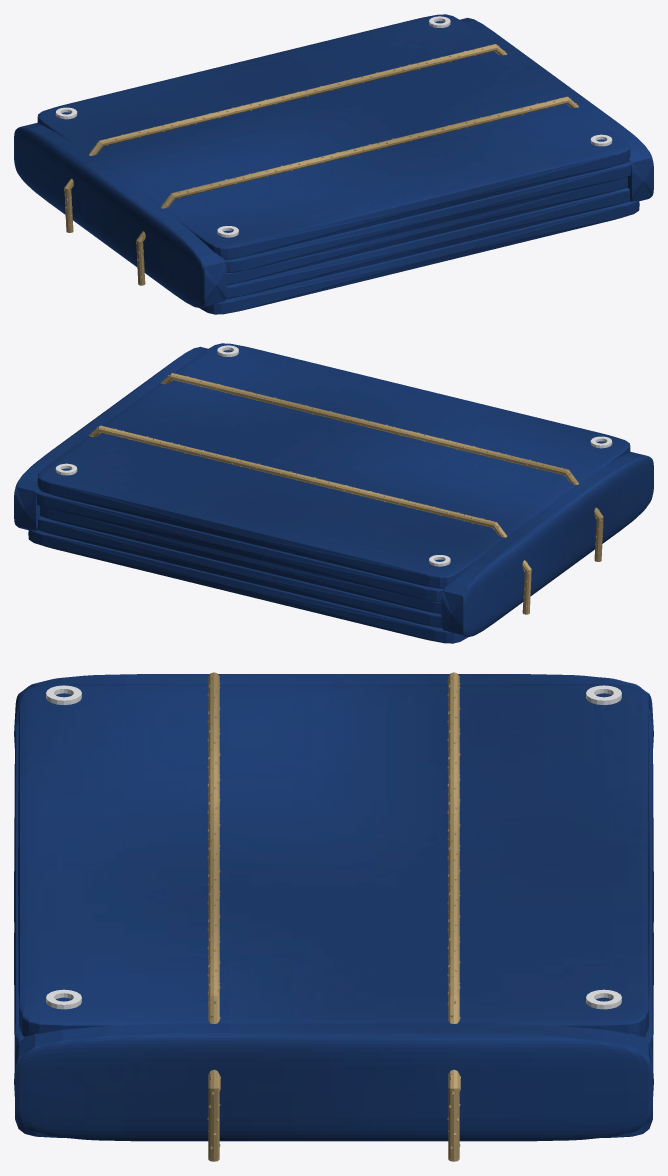
Rendered from lona.glb.
3 renders of one model, top to bottom at view 1: azimuth 30°, elevation 25°; view 2: azimuth 150°, elevation 25°; view 3: azimuth 270°, elevation 25°, orthographic. The views are drawn at different scales.
Visible parts, largest first — view 1: lona_lona_azul, lona_corda, lona_aco_polido; view 2: lona_lona_azul, lona_corda, lona_aco_polido; view 3: lona_lona_azul, lona_corda, lona_aco_polido.
Boxes of the visible parts, x1=… form: lona_lona_azul: x1=14, y1=14, x2=653, y2=314; lona_corda: x1=64, y1=44, x2=578, y2=285; lona_aco_polido: x1=55, y1=16, x2=612, y2=237; lona_lona_azul: x1=14, y1=343, x2=653, y2=643; lona_corda: x1=89, y1=373, x2=603, y2=614; lona_aco_polido: x1=55, y1=345, x2=612, y2=566; lona_lona_azul: x1=14, y1=674, x2=653, y2=1141; lona_corda: x1=207, y1=672, x2=460, y2=1161; lona_aco_polido: x1=46, y1=685, x2=621, y2=1009.
Bounding box in the file's own units: 0.4501 × 0.0778 × 0.32.
3 materials, 2 textured.
